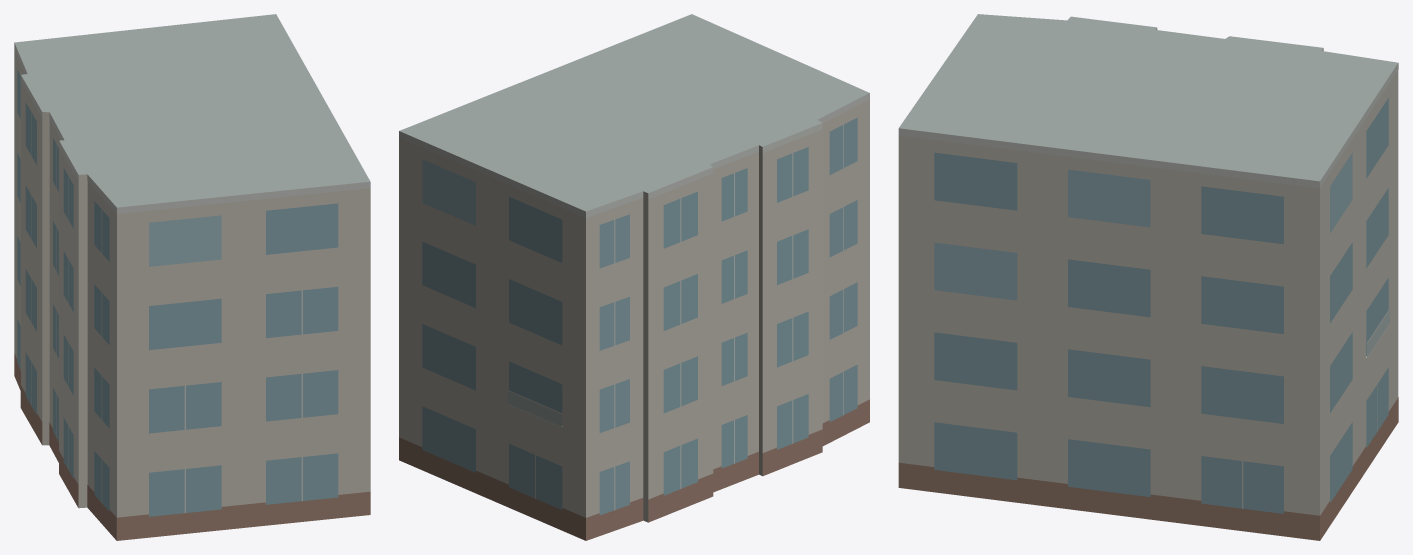
Rendered from survey-upis-32809852.glb.
3 views of the same model, side by side, from view 1: azimuth 30°, elevation 25°; view 2: azimuth 150°, elevation 25°; view 3: azimuth 270°, elevation 25° (orthographic). The views are drawn at different scales.
Visible parts, largest first — view 1: survey-upis-32809852.tmp; view 2: survey-upis-32809852.tmp; view 3: survey-upis-32809852.tmp.
Boxes of the visible parts, left/top/right/bottom form: survey-upis-32809852.tmp: left=14, top=14, right=370, bottom=540; survey-upis-32809852.tmp: left=399, top=14, right=869, bottom=540; survey-upis-32809852.tmp: left=898, top=14, right=1398, bottom=540.
Bounding box in the file's own units: 12.59 × 12.6 × 15.88.
